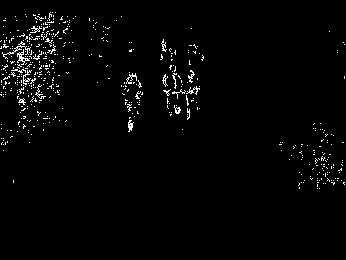person: (124, 71, 142, 131), (161, 65, 182, 116), (184, 69, 199, 120)
